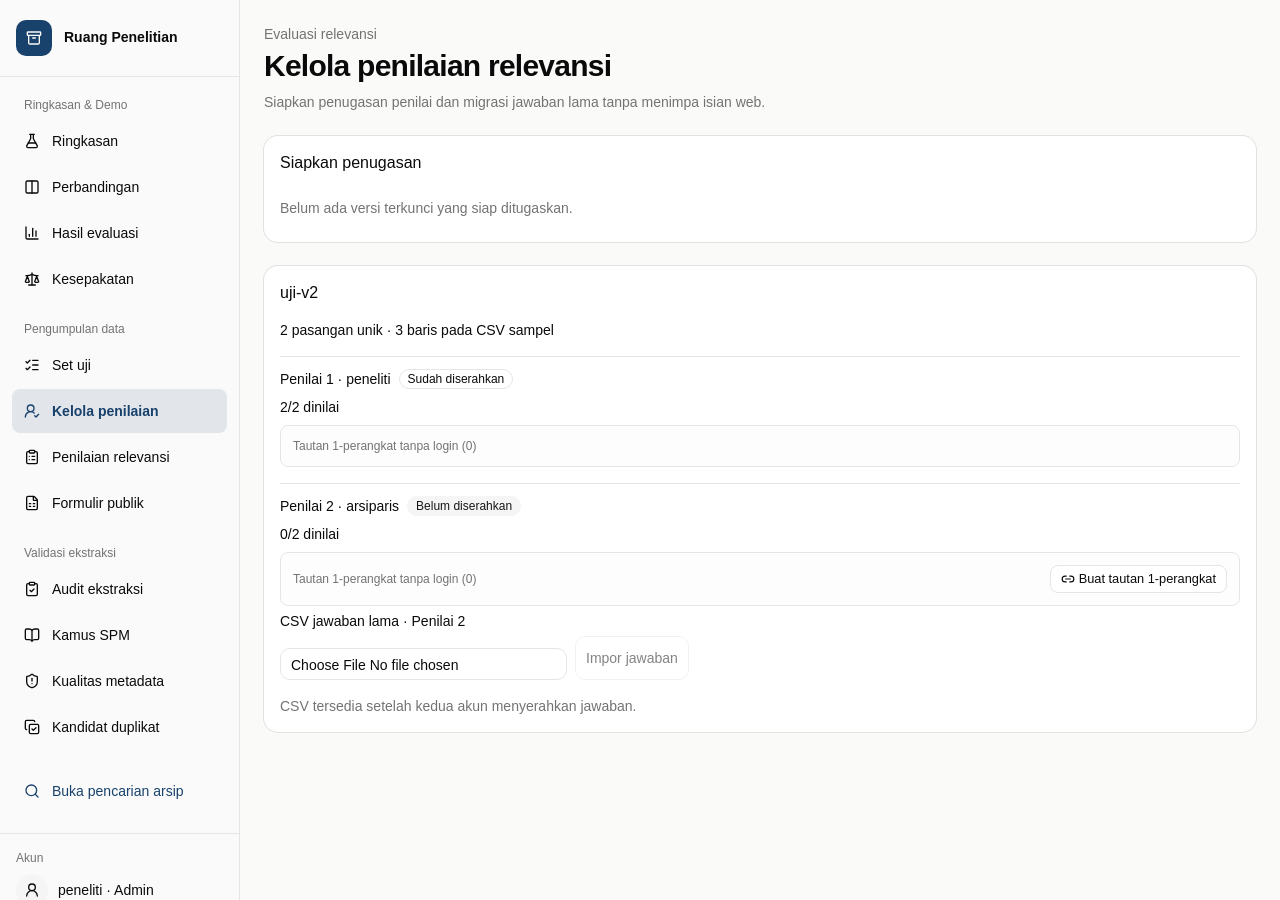
it: admin dapat membuat, mereset, dan mencabut tautan tugas dari halaman kelola penilaian
Click the button "Buat tautan 1-perangkat" at {"x": 1138, "y": 579}, box [1050, 565, 1227, 593]
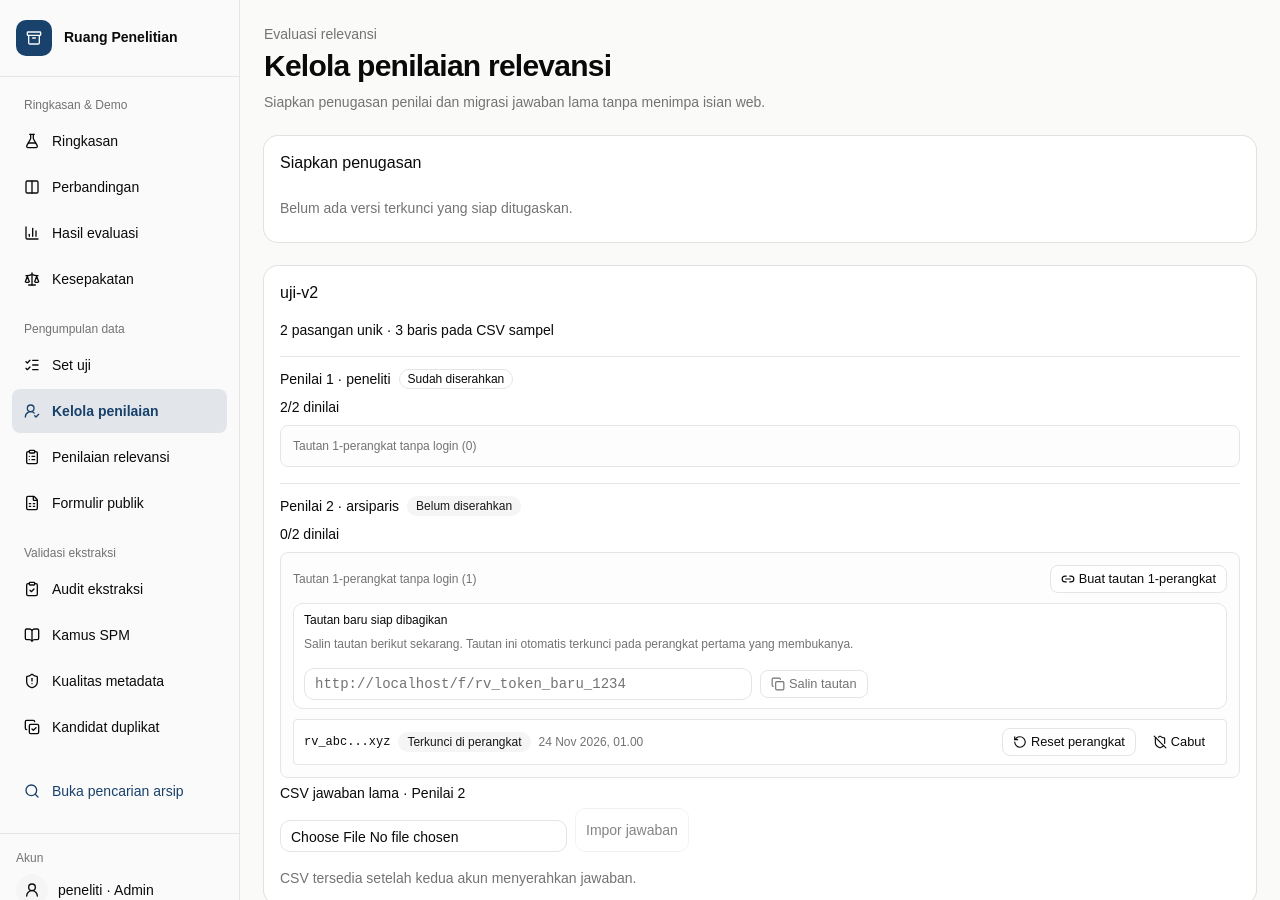
expect the field showing "/f/rv_token_baru_1234" is shown: met, box [304, 668, 752, 700]
Click the button "Reset perangkat" at {"x": 1069, "y": 742}, box [1002, 728, 1136, 756]
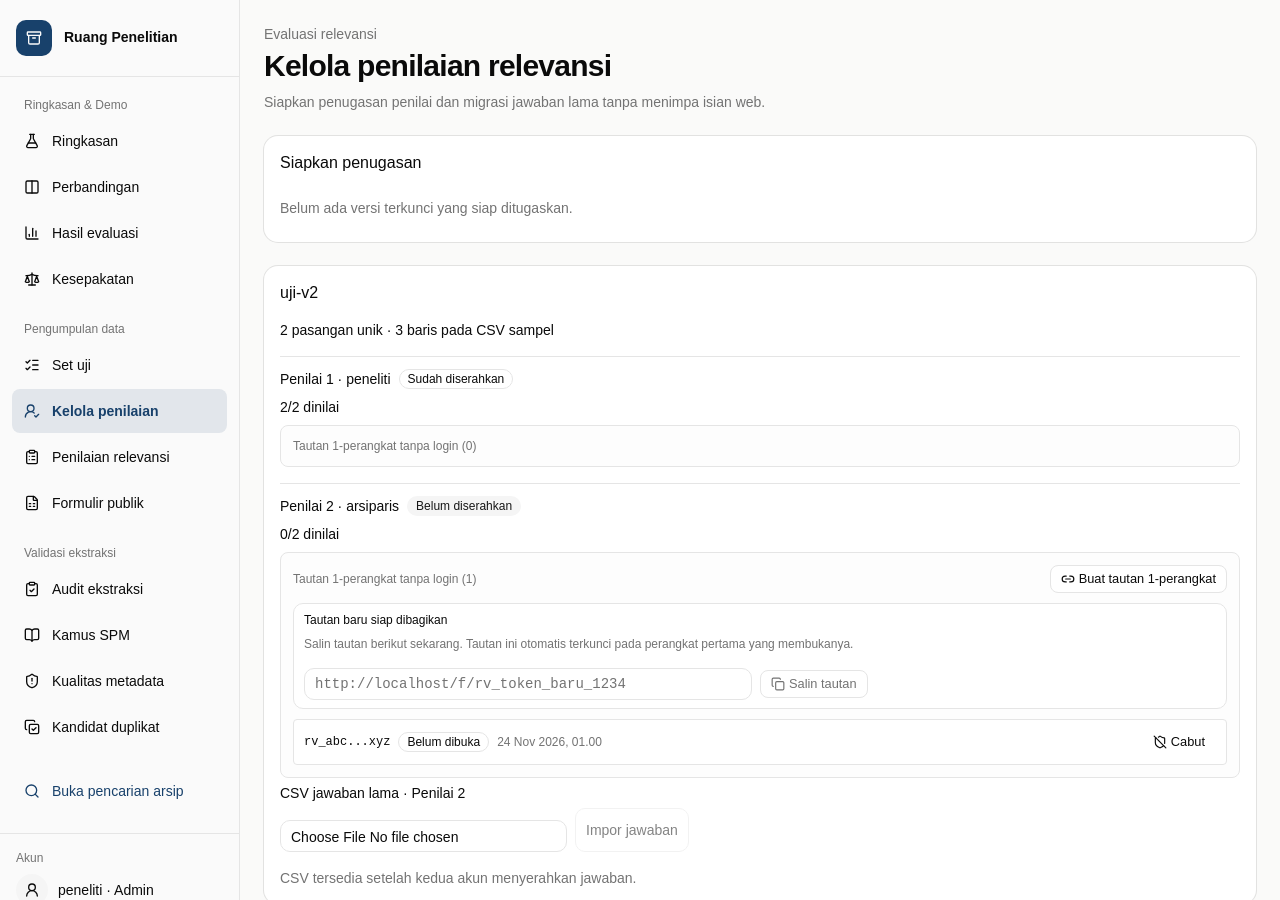
expect the text "Belum dibuka" is shown: met, box [398, 732, 489, 752]
Click the button "Cabut" at {"x": 1179, "y": 742}, box [1142, 728, 1216, 756]
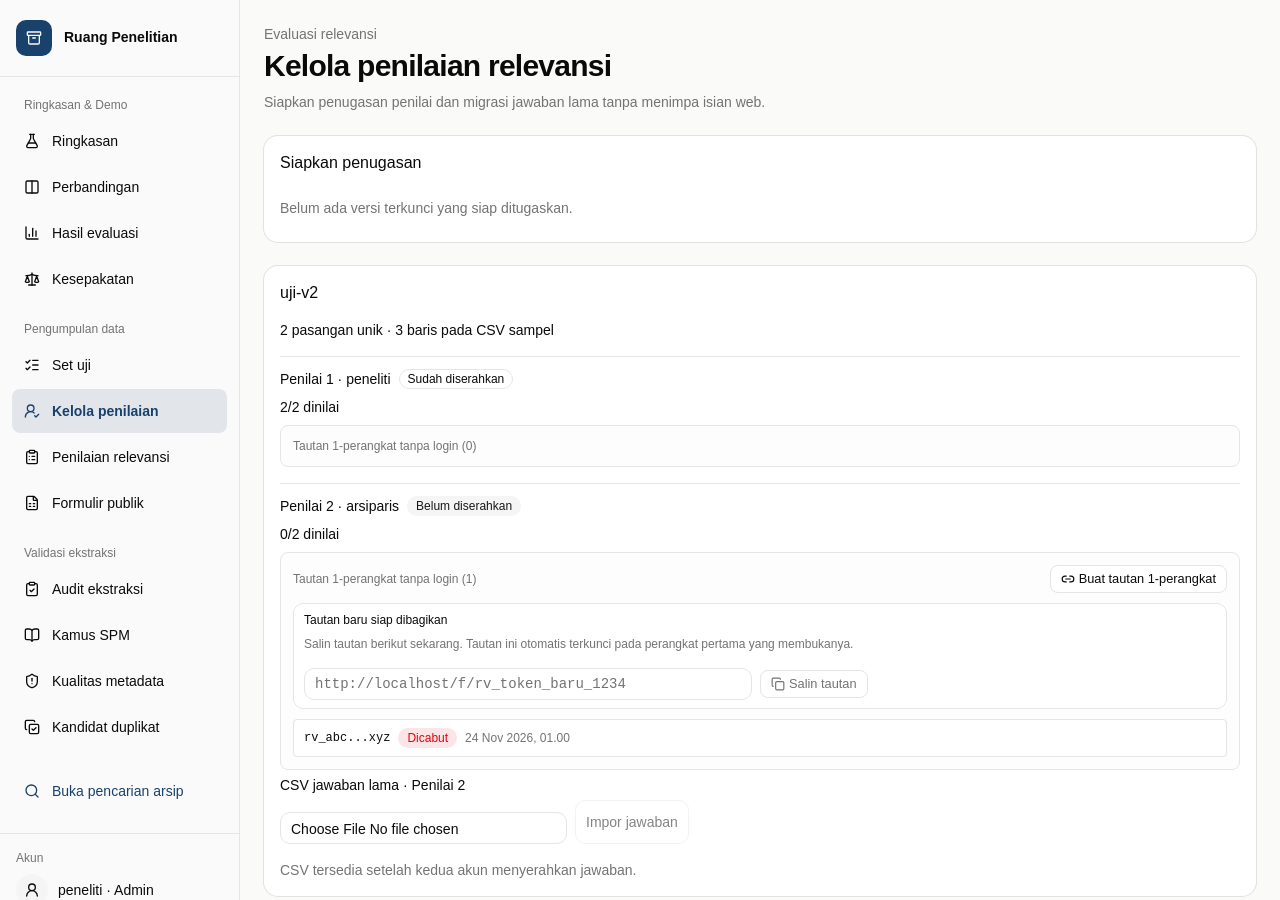
expect the icon "Dicabut" is shown: met, box [398, 728, 457, 748]
